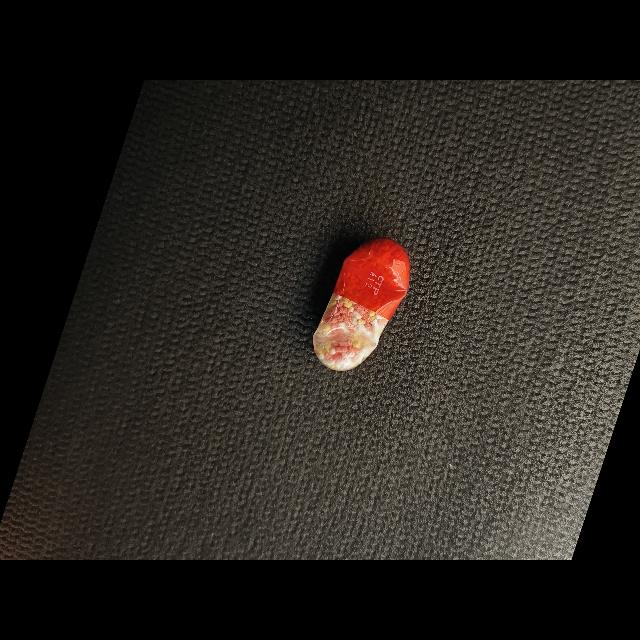Defective Capsule: (313, 238, 410, 371)
